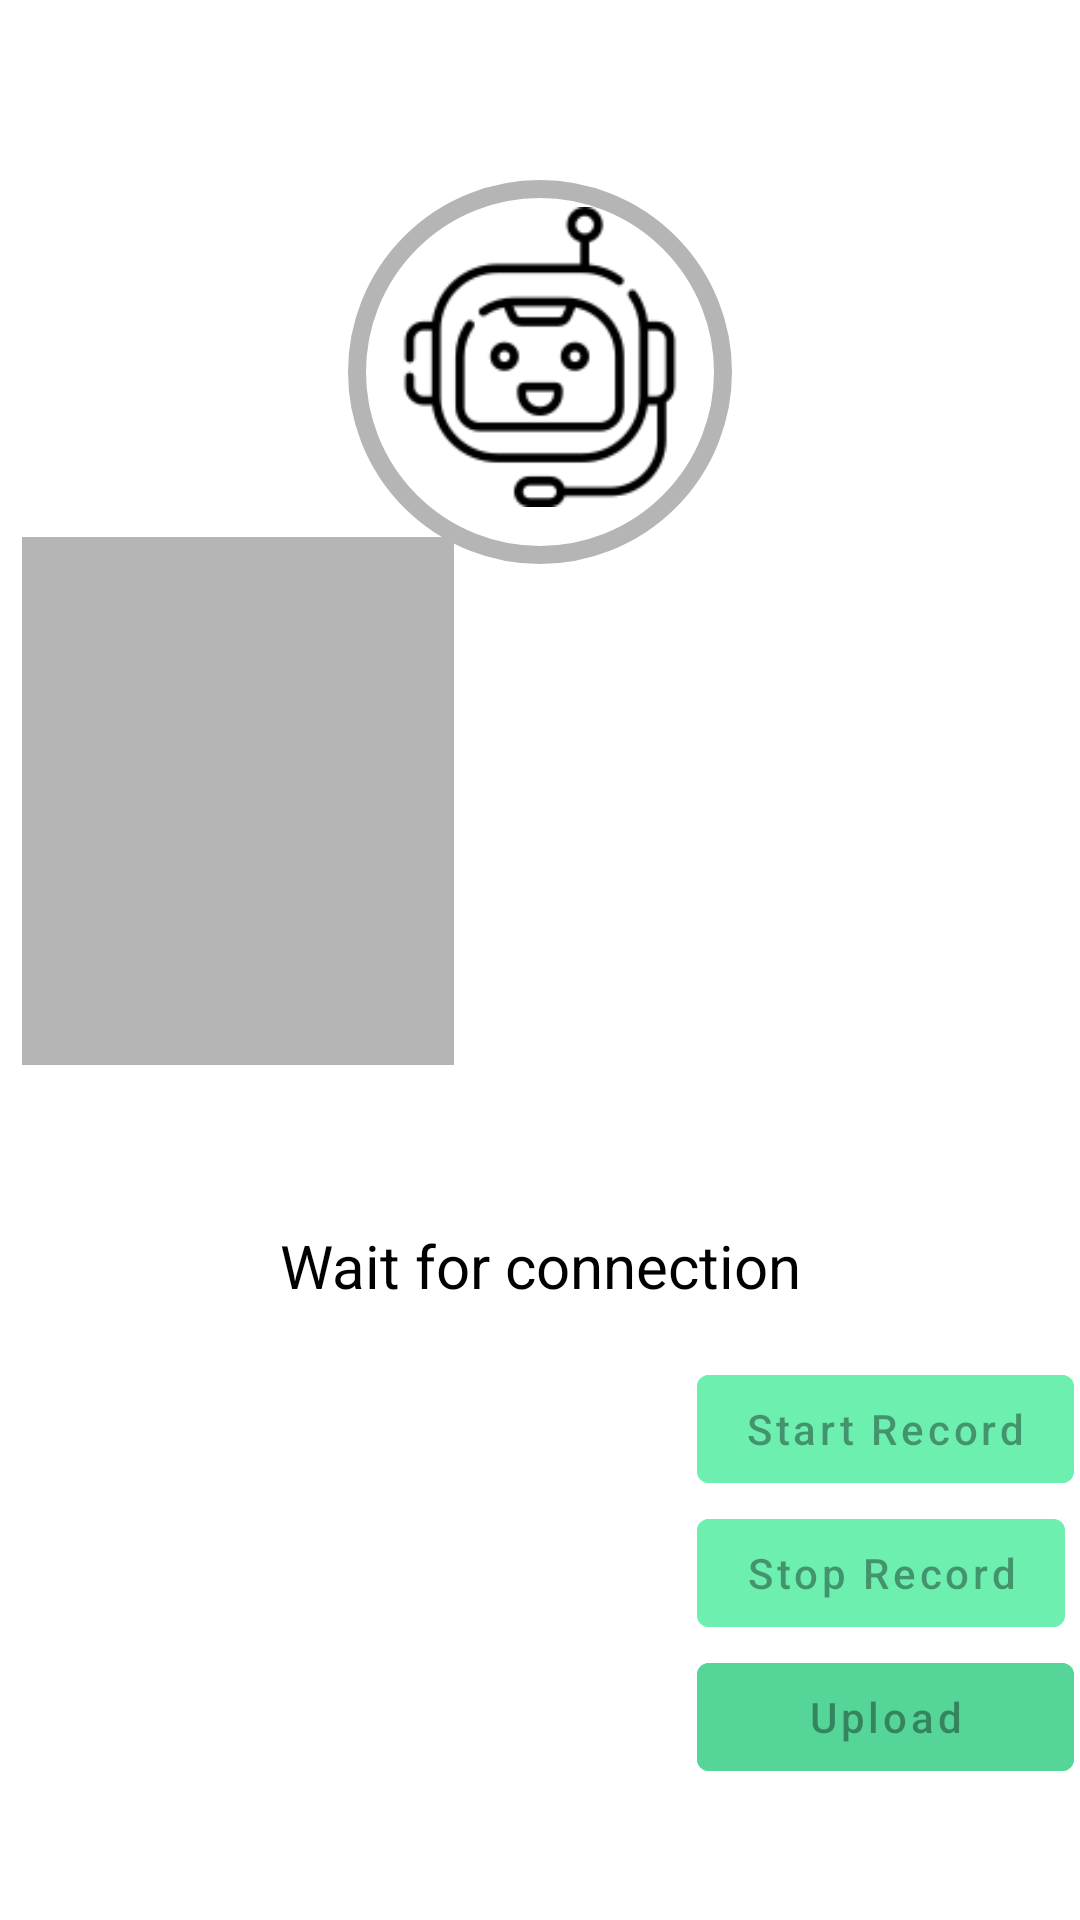

Icons on this 1080px×1920px Android screen, each with its box as (x1,y1,x2,y2):
chatbot: (390,207,690,507)
